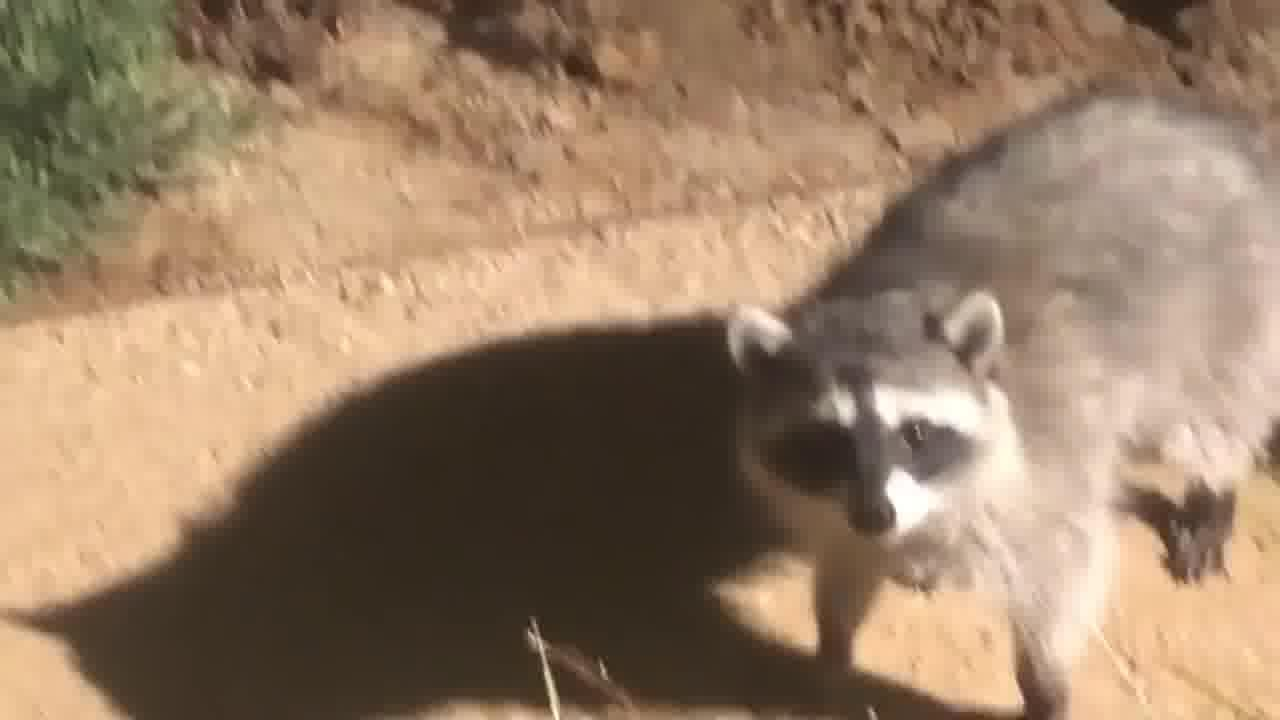raccoon: (715, 70, 1280, 720)
